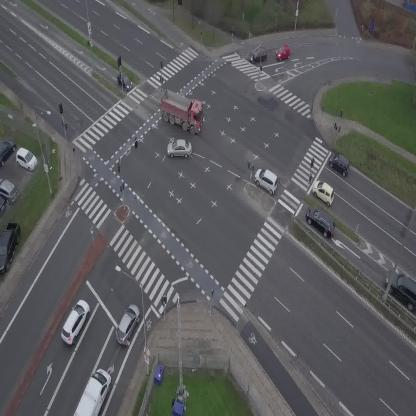car: (57, 297, 95, 347), (300, 202, 341, 242), (112, 301, 144, 347), (308, 176, 340, 207), (250, 165, 283, 195), (326, 150, 354, 176), (167, 139, 192, 158), (113, 71, 134, 93), (247, 47, 269, 63), (273, 45, 292, 61)
lorry: (153, 85, 211, 136), (73, 366, 116, 416)
